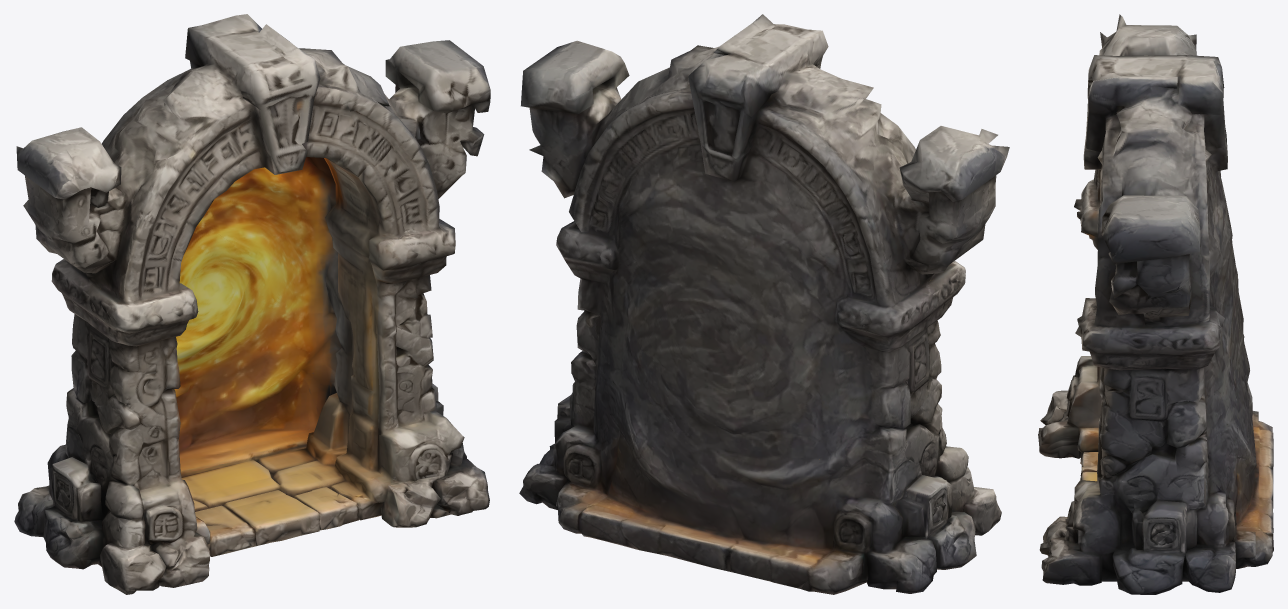
Rendered from 10-portal-magico.glb.
3 renders of one model, left to right at view 1: azimuth 30°, elevation 25°; view 2: azimuth 150°, elevation 25°; view 3: azimuth 270°, elevation 25°, orthographic. The views are drawn at different scales.
Visible parts, largest first — view 1: tripo_node_03e57f46-5370-4def-ae00-d3ddd4b319db; view 2: tripo_node_03e57f46-5370-4def-ae00-d3ddd4b319db; view 3: tripo_node_03e57f46-5370-4def-ae00-d3ddd4b319db.
Part boxes in pixels (box(x1,y1,x2,y2)): tripo_node_03e57f46-5370-4def-ae00-d3ddd4b319db: box(14, 14, 490, 594); tripo_node_03e57f46-5370-4def-ae00-d3ddd4b319db: box(519, 14, 1009, 594); tripo_node_03e57f46-5370-4def-ae00-d3ddd4b319db: box(1038, 14, 1273, 594).
Size of the model in its own units: 0.9735 by 1 by 0.4877.
1 material, 1 textured.
